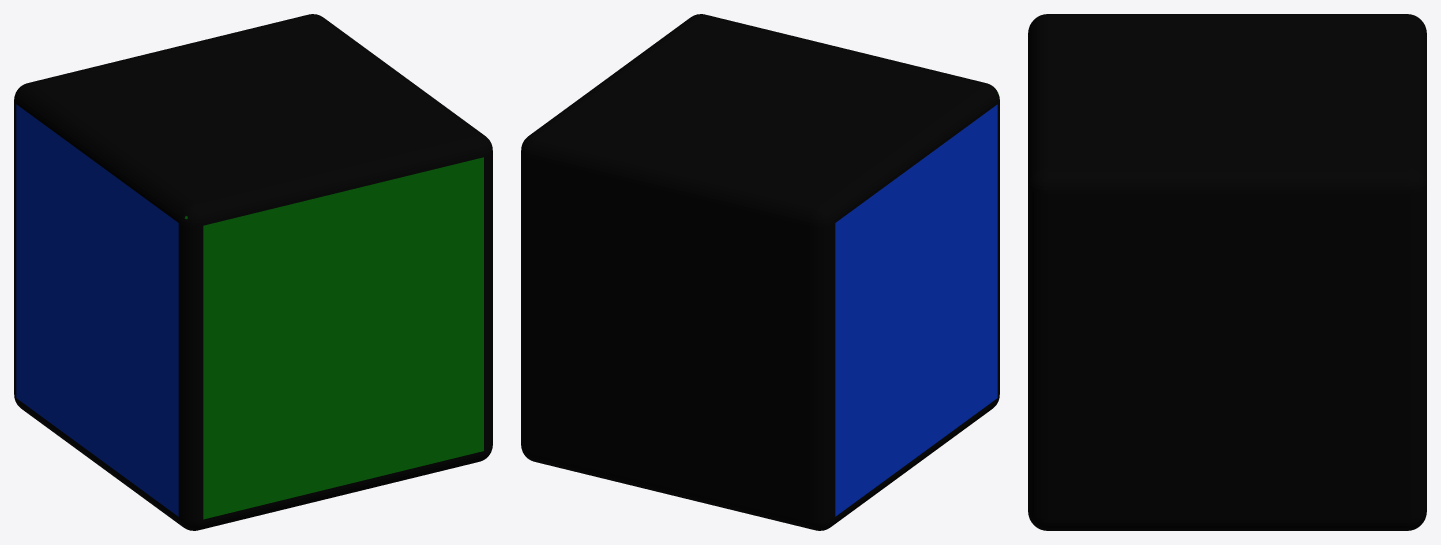
File: beta2.obj
The picture shows the model from 3 angles, left to right: view 1: azimuth 30°, elevation 25°; view 2: azimuth 150°, elevation 25°; view 3: azimuth 270°, elevation 25°; orthographic projection. The views are drawn at different scales.
Visible parts, largest first — view 1: Cube; view 2: Cube; view 3: Cube.
Boxes of the visible parts, box(x1,y1,x2,y2) form: Cube: box(14, 14, 492, 530); Cube: box(521, 14, 999, 530); Cube: box(1028, 14, 1426, 530).
Size of the model in its own units: 4.28 by 4.28 by 4.28.
